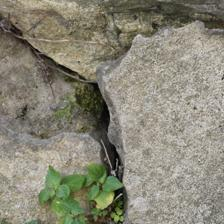Crack: (64, 0, 133, 122), (31, 12, 74, 123)
